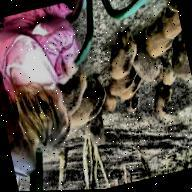boar: (62, 89, 107, 139), (104, 32, 137, 83), (131, 52, 163, 97), (62, 72, 96, 114), (150, 85, 178, 125), (139, 32, 171, 65), (172, 45, 192, 93), (116, 77, 144, 109), (159, 7, 183, 44), (120, 94, 144, 124), (108, 77, 133, 104), (106, 91, 117, 122)
